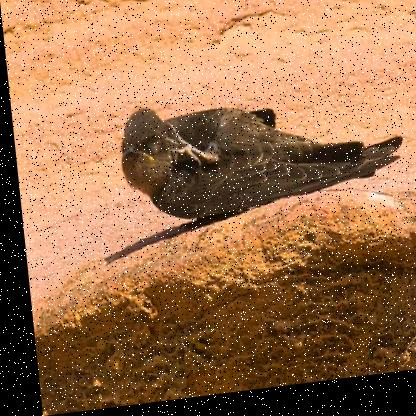Burung: (114, 86, 404, 240)
